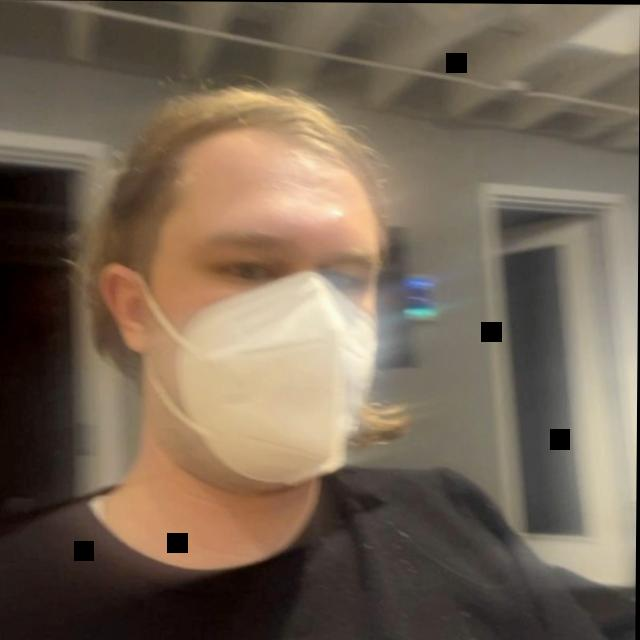Mask: (54, 61, 415, 568)
